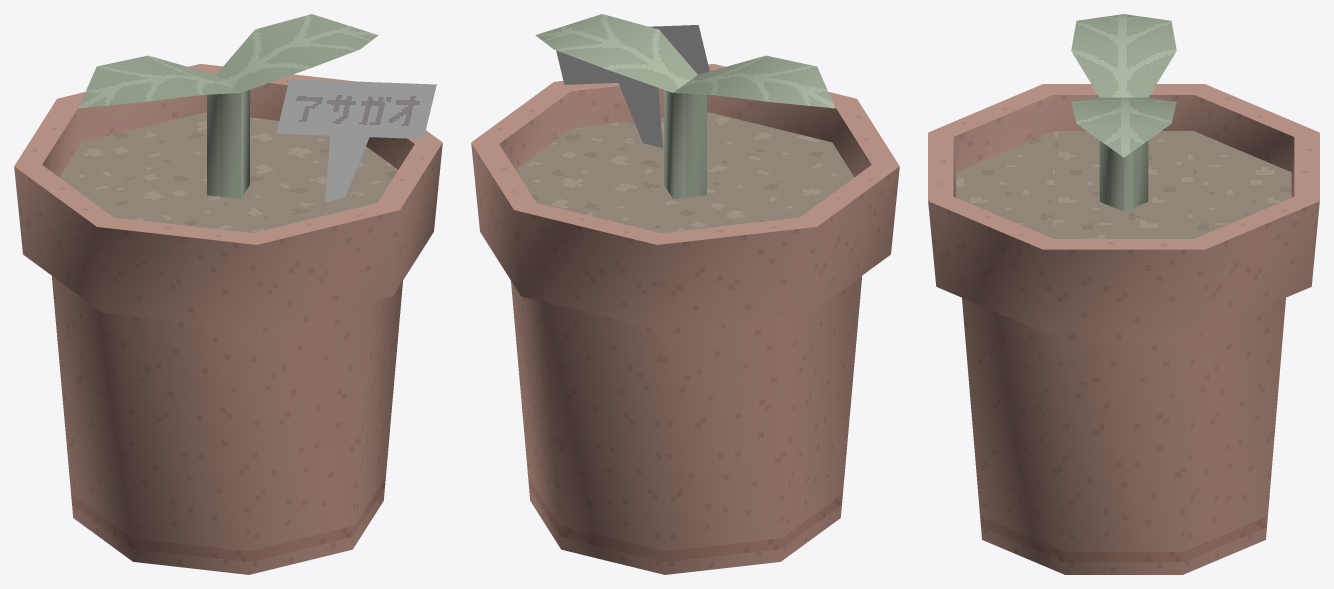
Rendered from 00ed_Garden_Pot.glb.
3 renders of one model, left to right at view 1: azimuth 30°, elevation 25°; view 2: azimuth 150°, elevation 25°; view 3: azimuth 270°, elevation 25°, orthographic.
Visible parts, largest first — view 1: part_0; view 2: part_0; view 3: part_0.
Part boxes in pixels (bbox=[...]): part_0: bbox=[14, 14, 442, 574]; part_0: bbox=[471, 14, 899, 574]; part_0: bbox=[928, 14, 1319, 574].
Bounding box in the file's own units: 0.204 × 0.2544 × 0.204.
1 material, 1 textured.
